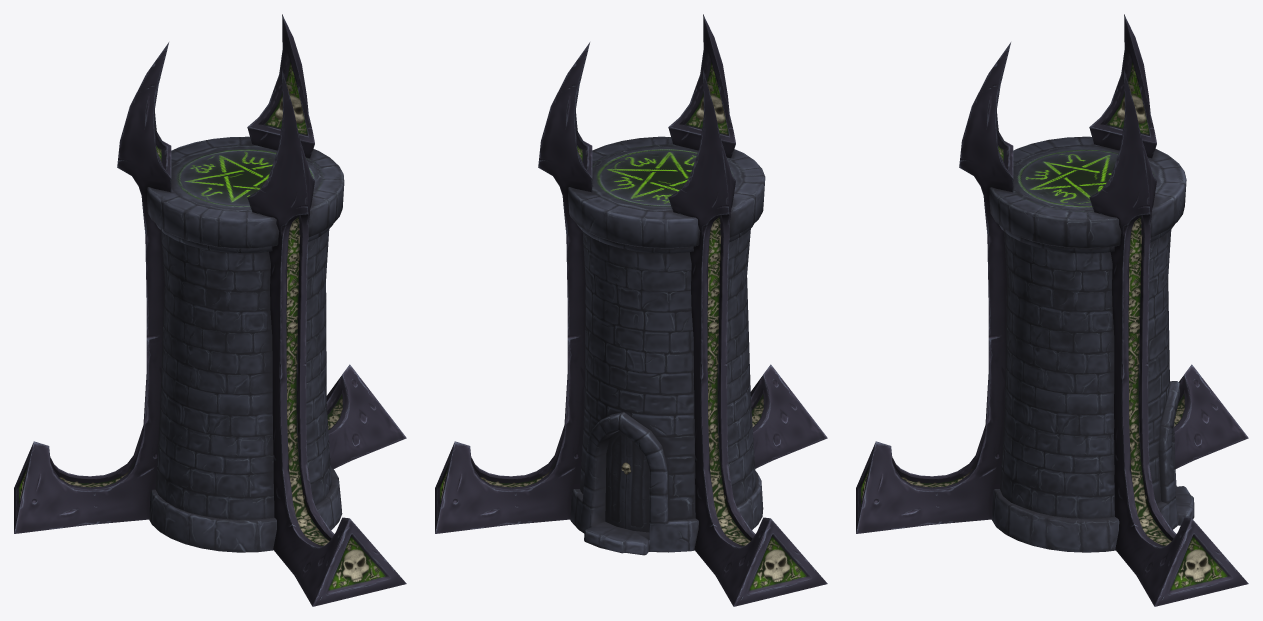
The model's file is necromancer tower.fbx.
3 views of the same model, side by side, from view 1: azimuth 30°, elevation 25°; view 2: azimuth 150°, elevation 25°; view 3: azimuth 270°, elevation 25° (orthographic).
Parts seen in each view (by area): view 1: necrotower; view 2: necrotower; view 3: necrotower.
Part boxes in pixels (x1,y1,x2,y2): necrotower: [14, 14, 406, 606]; necrotower: [435, 14, 827, 606]; necrotower: [856, 14, 1248, 606].
Size of the model in its own units: 5.34 by 6.1 by 4.63.
